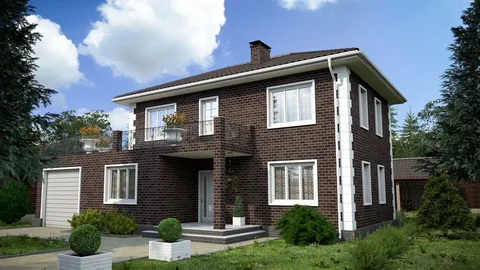private_hause: (73, 60, 401, 227)
